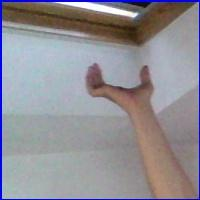space: (79, 59, 161, 110)
